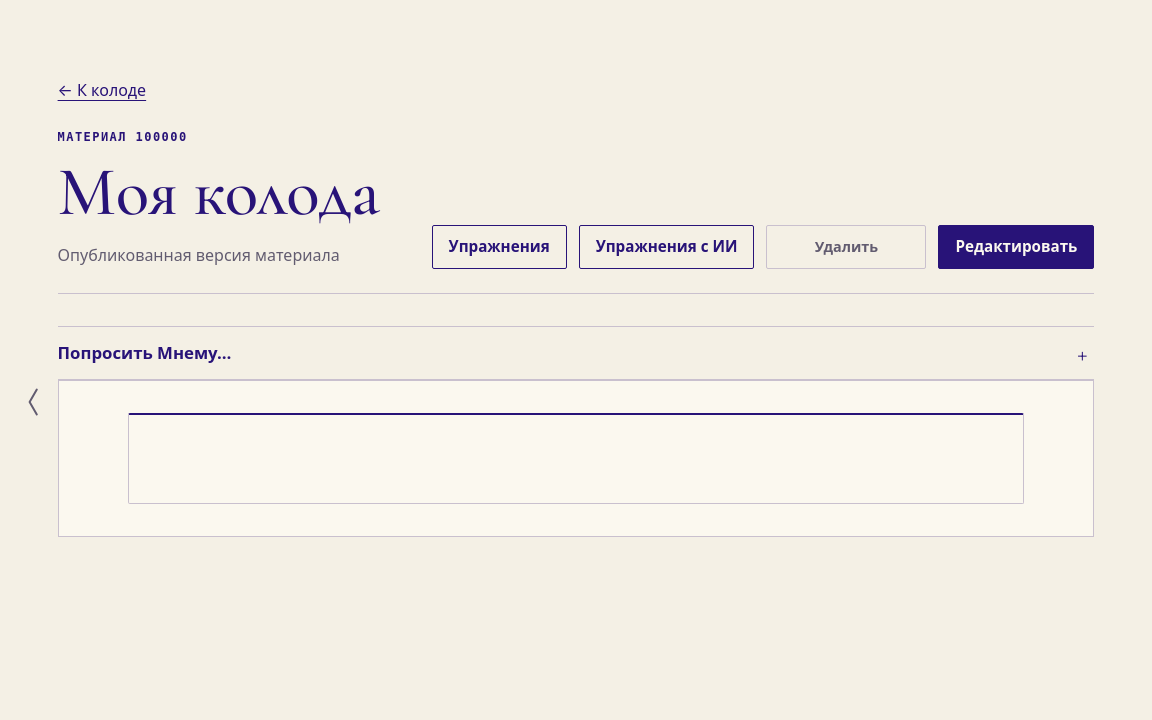
BrowsePageComponent › «Попросить Мнему…» (AI-16) › is one collapsed button under the material actions when the server offers generation, and about this material
Click the button with class "ask-trigger". click: (144, 352)
box: [58,331,1094,375]
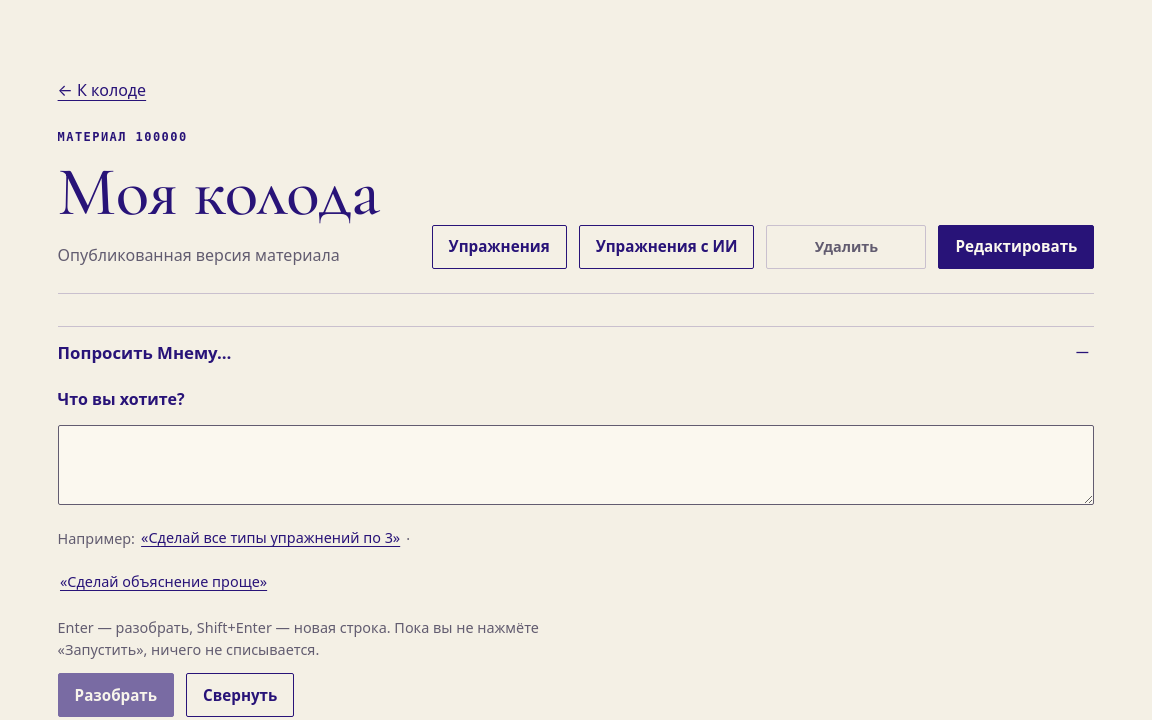
Check: the text box labelled "Что вы хотите?" is shown, box [58,424,1094,504]
